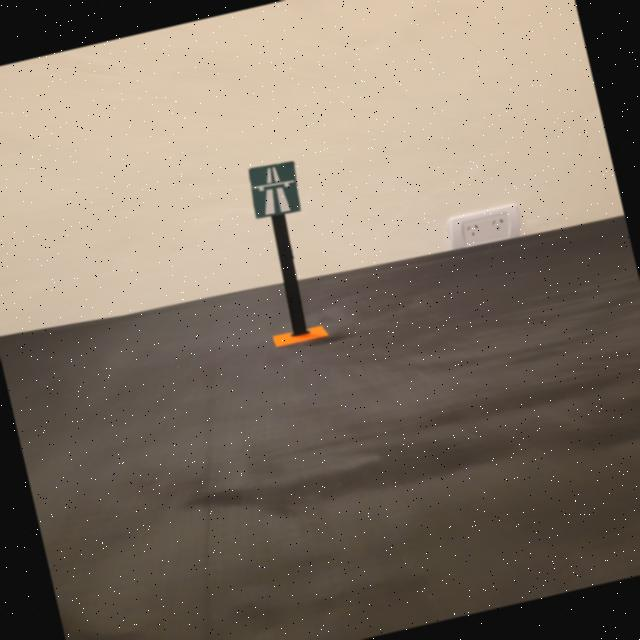highway_entrance: (244, 156, 303, 221)
